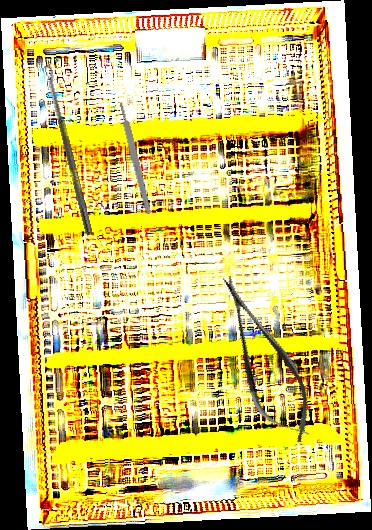Micro Scissor: (204, 265, 325, 453)
Scalpel Handle: (117, 102, 153, 215)
Surgical Spoon: (44, 64, 94, 236)
